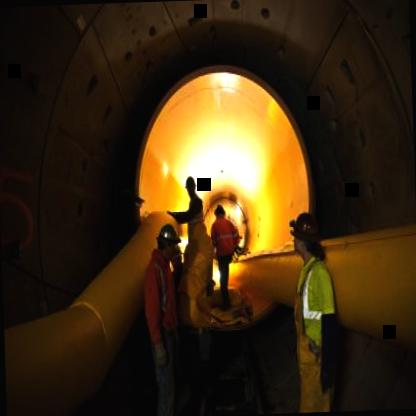helmet: (291, 206, 321, 258), (150, 216, 180, 267), (181, 173, 199, 202)
